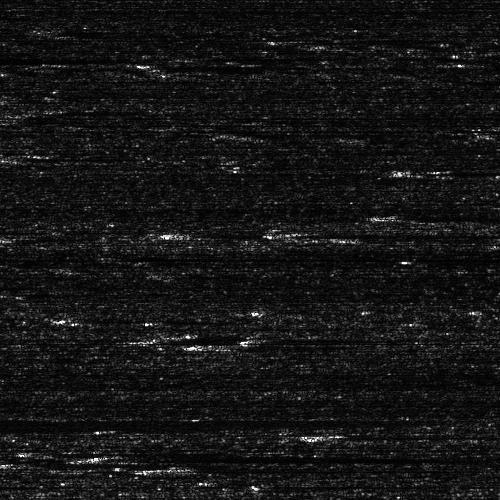object: (201, 329, 274, 356), (13, 449, 158, 462), (115, 463, 240, 474), (228, 228, 311, 239), (321, 210, 414, 219), (157, 330, 210, 341), (287, 433, 360, 438), (0, 155, 35, 160), (417, 167, 448, 172)
shadow: (0, 410, 238, 435), (238, 329, 447, 356), (86, 449, 447, 462), (178, 463, 400, 474), (270, 228, 464, 239), (368, 210, 499, 219), (323, 433, 475, 438), (184, 330, 250, 341), (0, 56, 130, 61), (0, 155, 119, 160), (433, 167, 500, 172), (0, 483, 43, 488), (0, 313, 7, 318)
